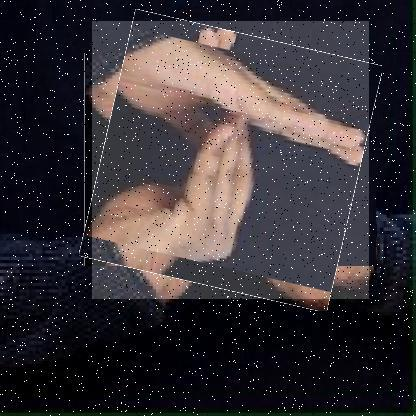Z: (92, 21, 370, 300)
